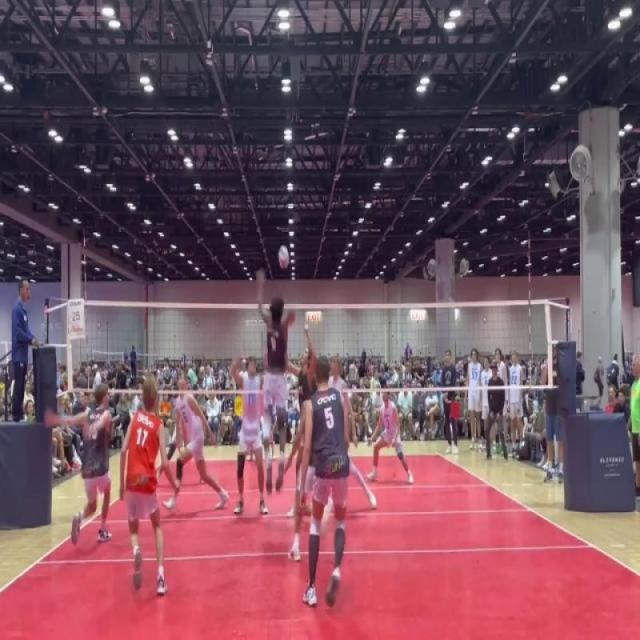volleyball: (276, 242, 291, 272)
